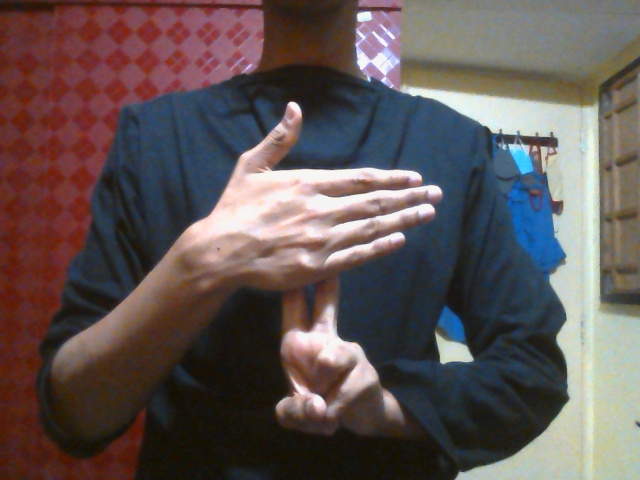N: (212, 98, 447, 438)
